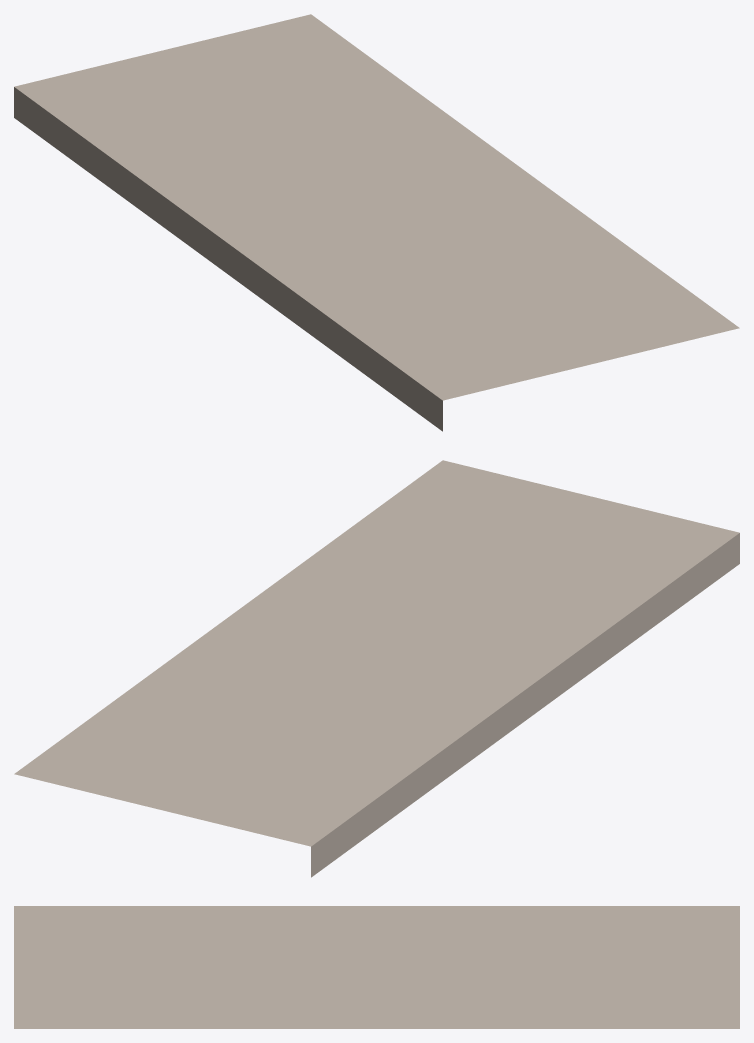
The model's file is Calçada_Simples_2.fbx.
3 views of the same model, one above another, from view 1: azimuth 30°, elevation 25°; view 2: azimuth 150°, elevation 25°; view 3: azimuth 270°, elevation 25° (orthographic). The views are drawn at different scales.
Visible parts, largest first — view 1: Calçada_Simples; view 2: Calçada_Simples; view 3: Calçada_Simples.
Part boxes in pixels (x1,y1,x2,y2): Calçada_Simples: (14, 14, 739, 431); Calçada_Simples: (14, 460, 739, 877); Calçada_Simples: (14, 906, 739, 1028).
Size of the model in its own units: 200 by 20 by 500.
